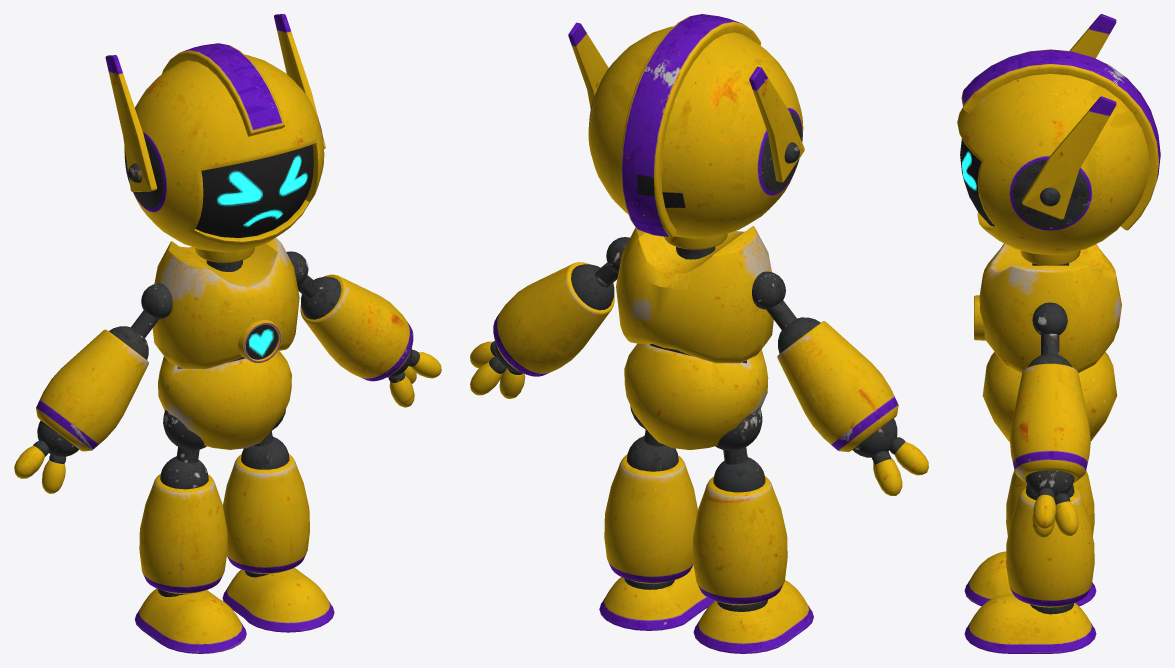
Rendered from robot2.glb.
The picture shows the model from 3 angles, left to right: view 1: azimuth 30°, elevation 25°; view 2: azimuth 150°, elevation 25°; view 3: azimuth 270°, elevation 25°; orthographic projection. The views are drawn at different scales.
Visible parts, largest first — view 1: Sphere.006; view 2: Sphere.006; view 3: Sphere.006.
Part boxes in pixels (x1=…): Sphere.006: x1=14, y1=14, x2=441, y2=653; Sphere.006: x1=470, y1=14, x2=928, y2=653; Sphere.006: x1=957, y1=14, x2=1160, y2=653.
Bounding box in the file's own units: 3.87 × 4.84 × 1.6.
1 material, 1 textured.
